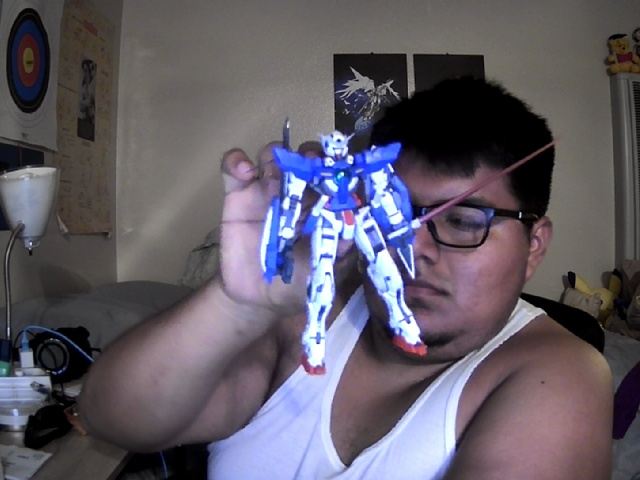Exia: (260, 118, 563, 378)
